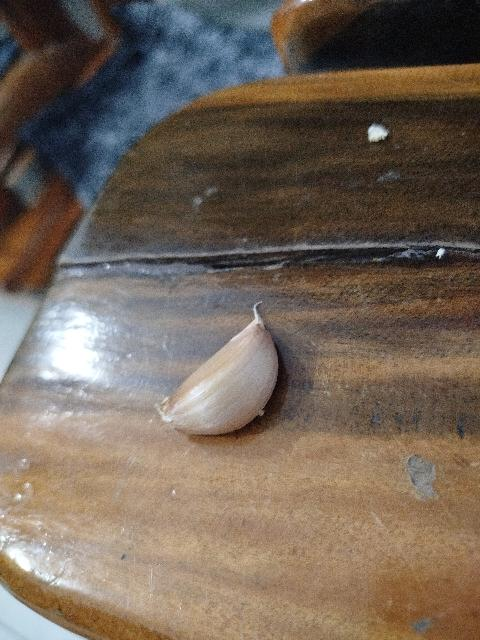garlic: (155, 300, 279, 436)
